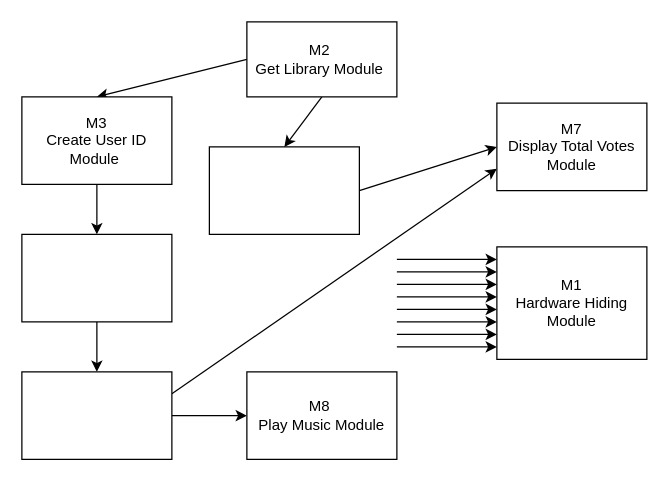
This 669x481 diagram has some shape labels left out. The centre of each missing label's shape, as x and y in pixels:
"M4 Display Options Module" belongs at (283,190).
"M5 Input Vote Module" belongs at (96,277).
"M6 Tally Votes Module" belongs at (96,415).
